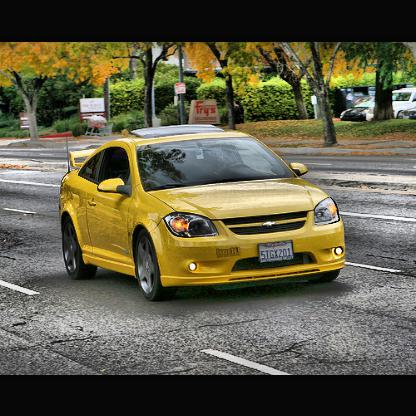Chevrolet Cobalt SS 2010: (60, 122, 349, 305)
